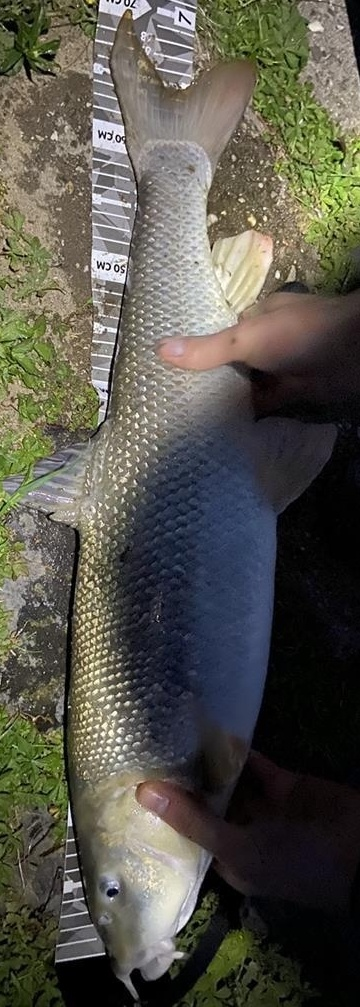Barbus barbus: (20, 20, 340, 998)
